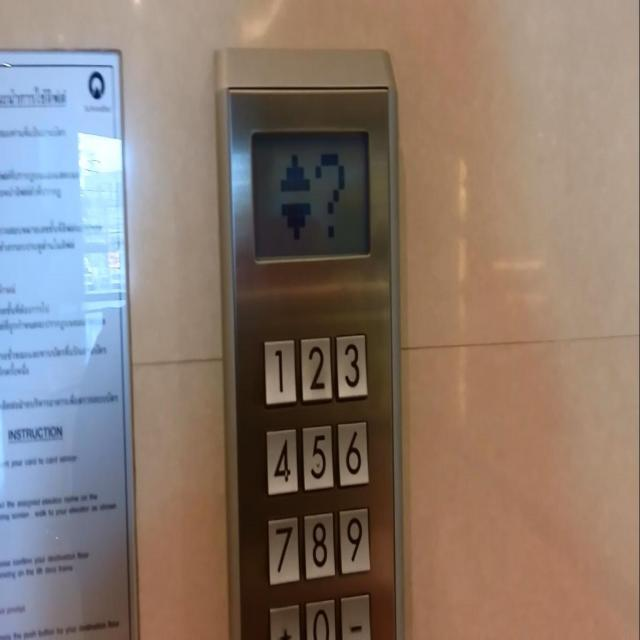-: (338, 588, 372, 640)
1: (261, 334, 297, 408)
2: (298, 333, 334, 405)
3: (332, 329, 370, 403)
4: (263, 424, 299, 497)
5: (300, 421, 335, 492)
6: (335, 418, 370, 490)
7: (265, 512, 302, 588)
8: (302, 507, 336, 582)
9: (336, 503, 372, 578)
led: (247, 121, 374, 268)
